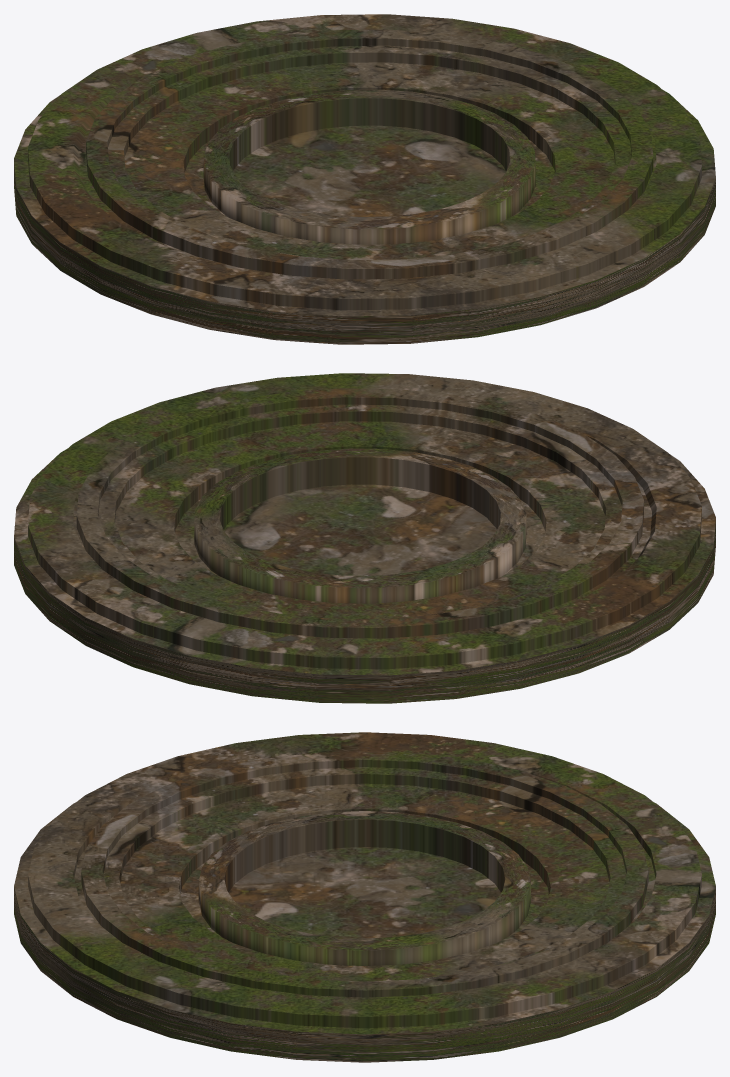
Rendered from pressure plate2.fbx.
3 views of the same model, one above another, from view 1: azimuth 30°, elevation 25°; view 2: azimuth 150°, elevation 25°; view 3: azimuth 270°, elevation 25° (orthographic).
Visible parts, largest first — view 1: Cylinder.001; view 2: Cylinder.001; view 3: Cylinder.001.
Part boxes in pixels (bbox=[...]): Cylinder.001: bbox=[14, 14, 715, 344]; Cylinder.001: bbox=[14, 373, 715, 703]; Cylinder.001: bbox=[14, 732, 715, 1062].
Size of the model in its own units: 1279 by 92.46 by 1279.
Materials: 1 (1 with a texture image).
